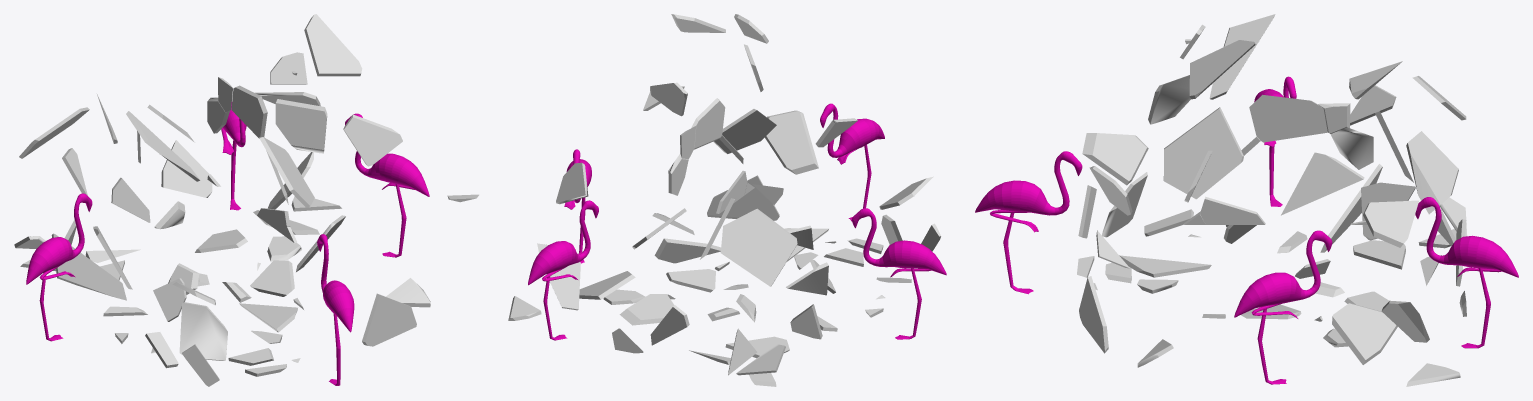
Rendered from zerschmettertimfriedendernacht.glb.
3 renders of one model, left to right at view 1: azimuth 30°, elevation 25°; view 2: azimuth 150°, elevation 25°; view 3: azimuth 270°, elevation 25°, orthographic. The views are drawn at different scales.
Visible parts, largest first — view 1: zerschmettert, flamingo_2, flamingo_1, flamingo_3, flamingo_4; view 2: zerschmettert, flamingo_2, flamingo_4, flamingo_3, flamingo_1; view 3: zerschmettert, flamingo_3, flamingo_4, flamingo_1, flamingo_2.
Boxes of the visible parts, x1,y1,x2,y2 form: zerschmettert: (14, 14, 478, 386); flamingo_2: (26, 193, 92, 341); flamingo_1: (345, 113, 429, 257); flamingo_3: (317, 234, 354, 385); flamingo_4: (221, 102, 246, 210); zerschmettert: (508, 14, 940, 386); flamingo_2: (852, 208, 946, 339); flamingo_4: (528, 200, 598, 340); flamingo_3: (820, 103, 884, 221); flamingo_1: (564, 149, 591, 263); zerschmettert: (1077, 14, 1467, 386); flamingo_3: (975, 151, 1082, 294); flamingo_4: (1415, 197, 1518, 348); flamingo_1: (1234, 230, 1332, 384); flamingo_2: (1254, 76, 1296, 206).
Size of the model in its own units: 3.03 by 2 by 3.34.
